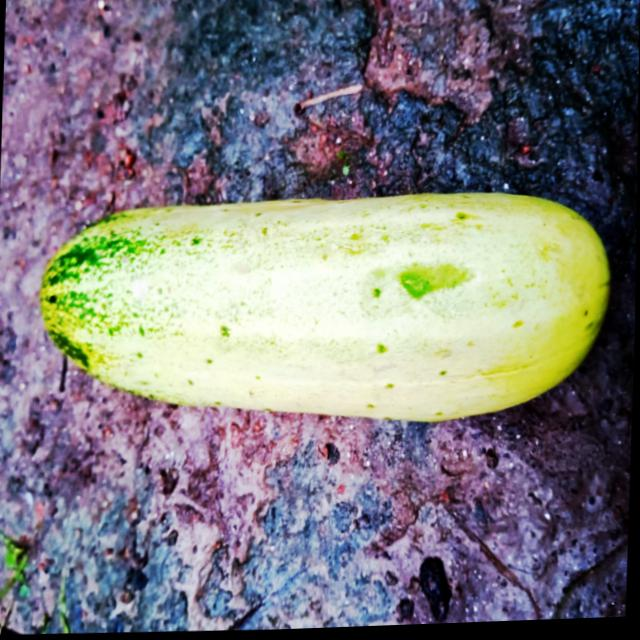Fresh-Cucumber: (33, 178, 616, 442)
